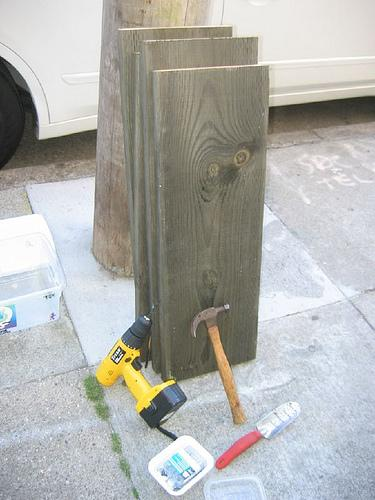hammer: (188, 301, 249, 427)
